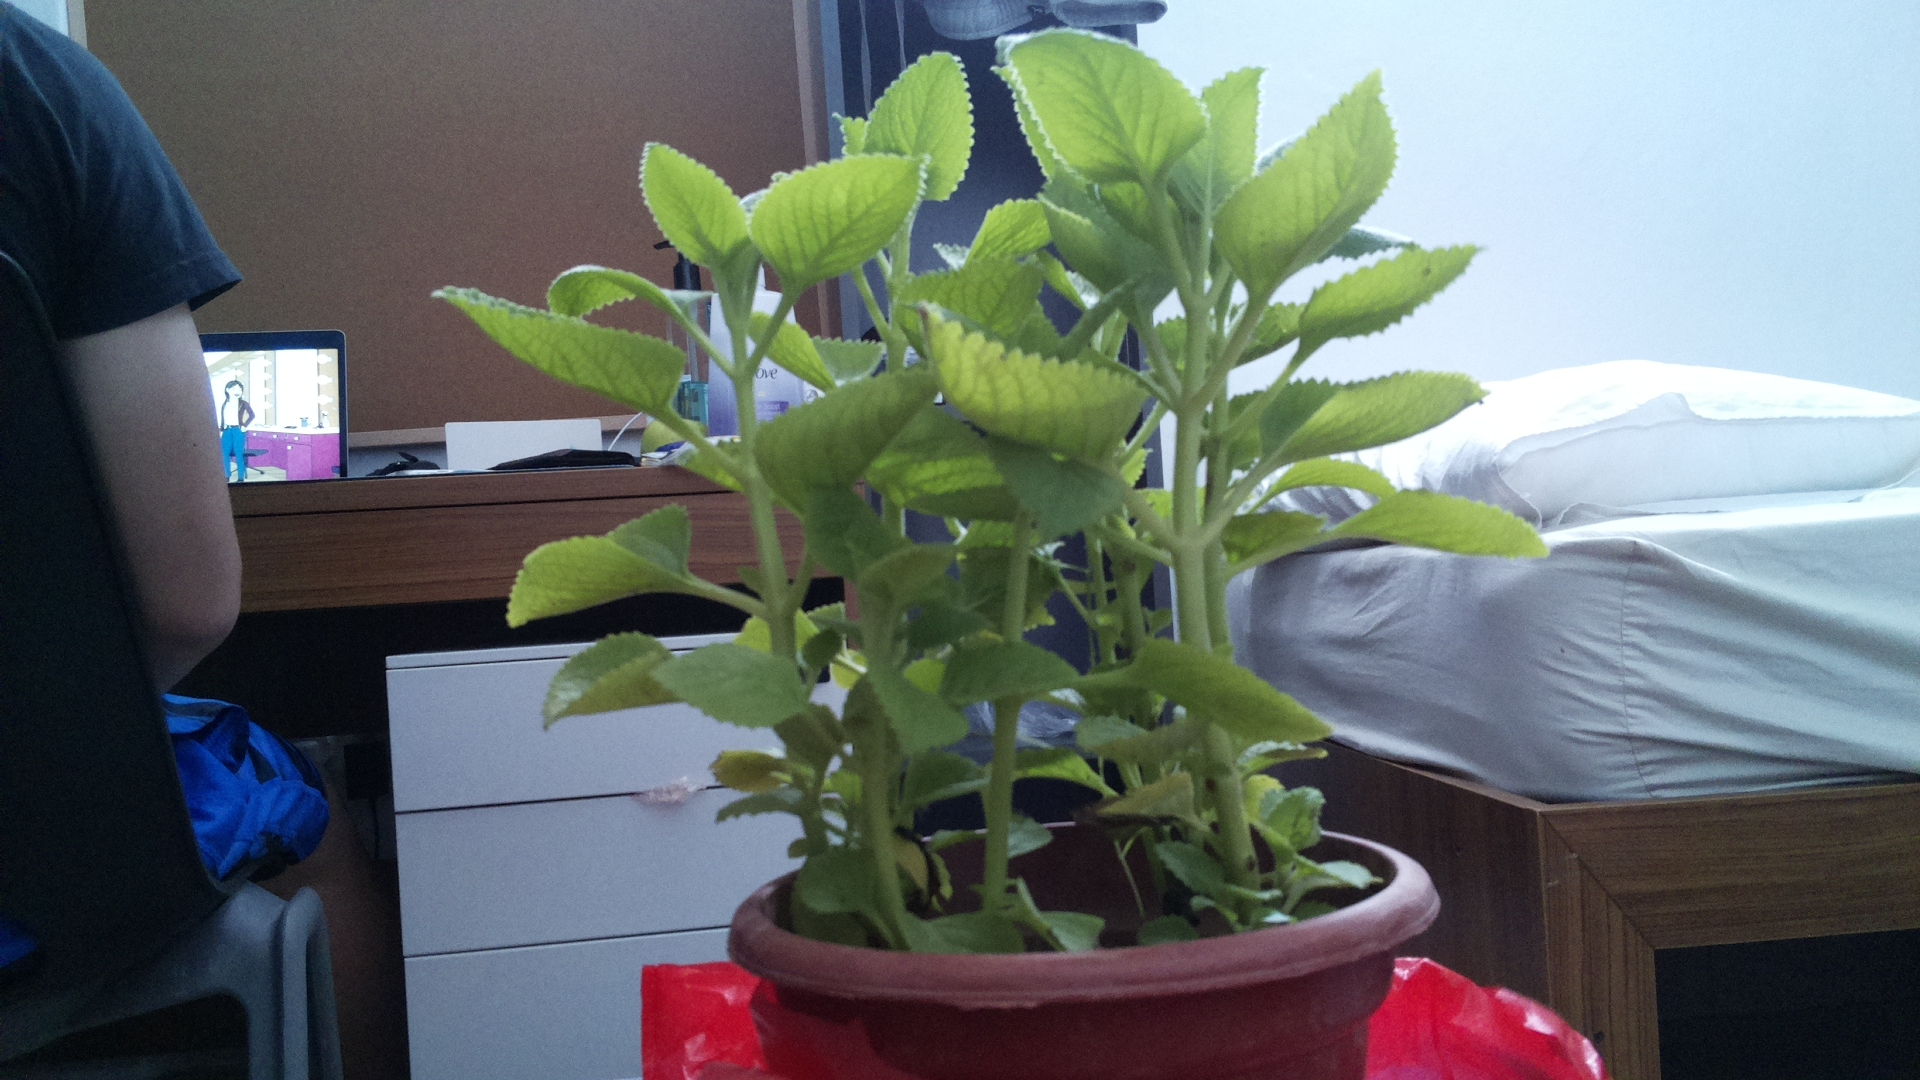leaf: (1222, 47, 1408, 318), (415, 270, 691, 444), (909, 302, 1145, 479), (1015, 18, 1209, 194), (484, 493, 719, 636), (1093, 636, 1352, 762), (756, 150, 928, 305), (1276, 233, 1489, 353), (752, 357, 934, 497), (1275, 357, 1503, 467), (622, 131, 779, 280), (1292, 487, 1564, 559), (868, 41, 975, 208), (533, 625, 688, 733), (551, 247, 713, 335), (665, 644, 808, 723), (872, 649, 971, 761)
